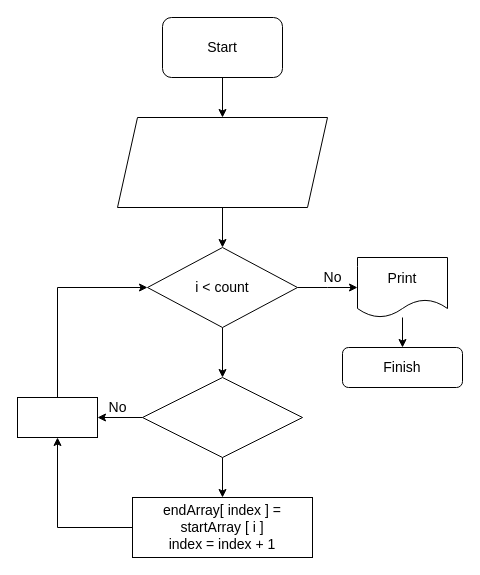
Some shapes in this 480 by 575 pixel diagram are drawn without their labels. The shapes that lost their labels are listed below. From the top down, each one's centre as x and y in pixels, then its label:
pixel 222 162: count startArray[ ] = {1...count} i = 0 count = 0 limit = 3
pixel 57 417: i = i + 1
pixel 222 417: startArray[ i ] <= limit
